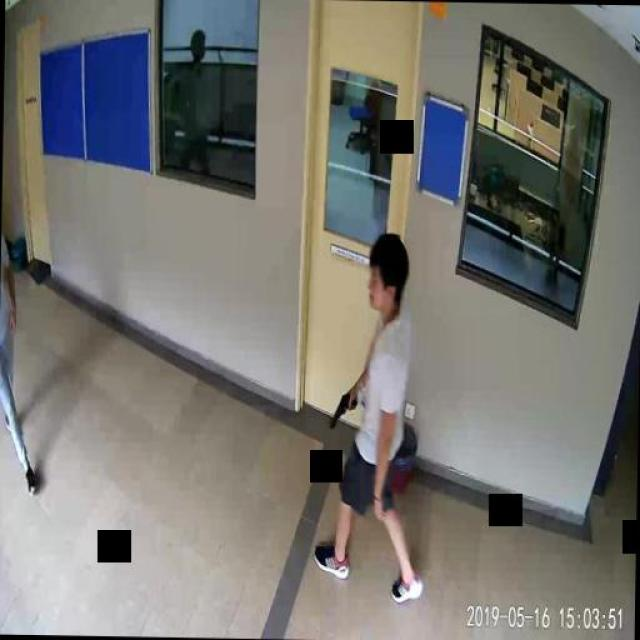gun: (328, 388, 358, 427)
